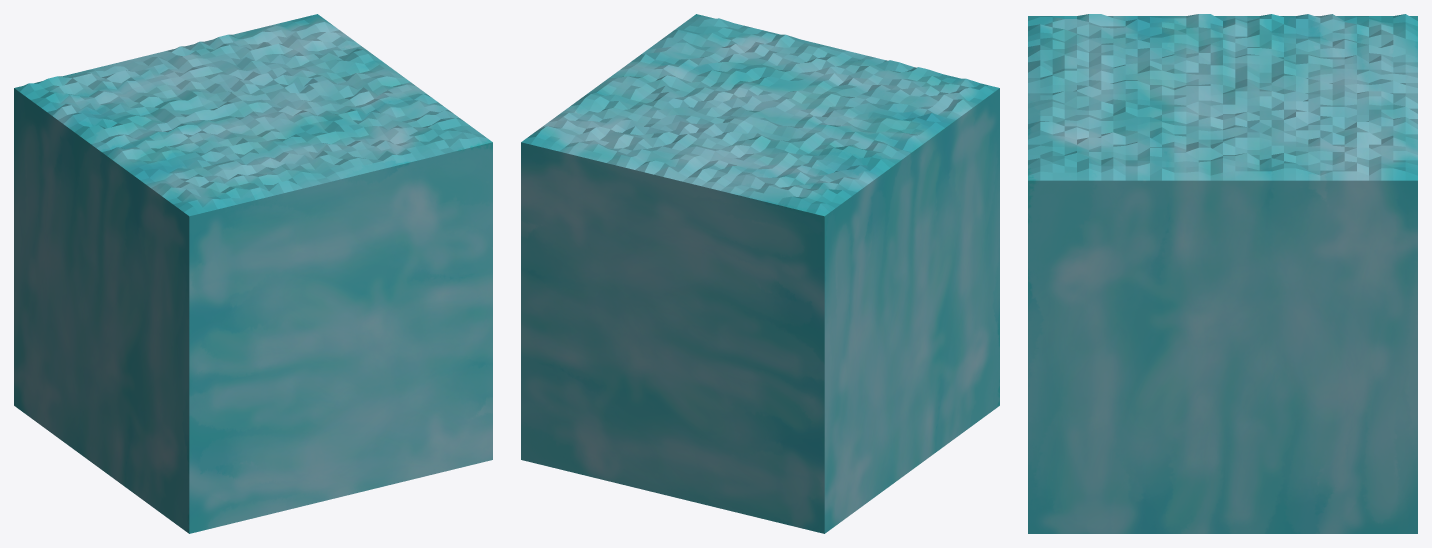
The model's file is TileReka.fbx.
3 views of the same model, side by side, from view 1: azimuth 30°, elevation 25°; view 2: azimuth 150°, elevation 25°; view 3: azimuth 270°, elevation 25° (orthographic). The views are drawn at different scales.
Parts seen in each view (by area): view 1: Cube; view 2: Cube; view 3: Cube.
Boxes of the visible parts, x1,y1,x2,y2 form: Cube: (14,14,492,533); Cube: (521,14,999,533); Cube: (1028,14,1417,533).
Size of the model in its own units: 200 by 204 by 200.
